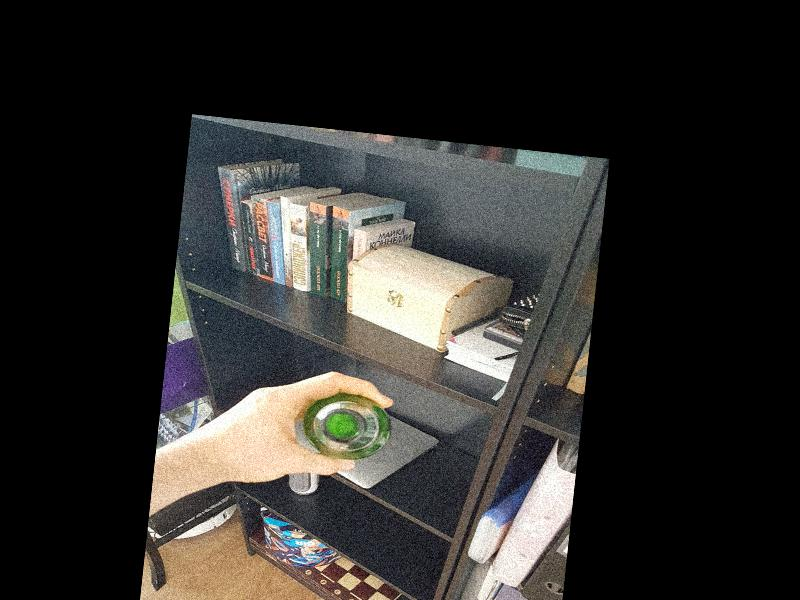Beer: (301, 389, 389, 464)
